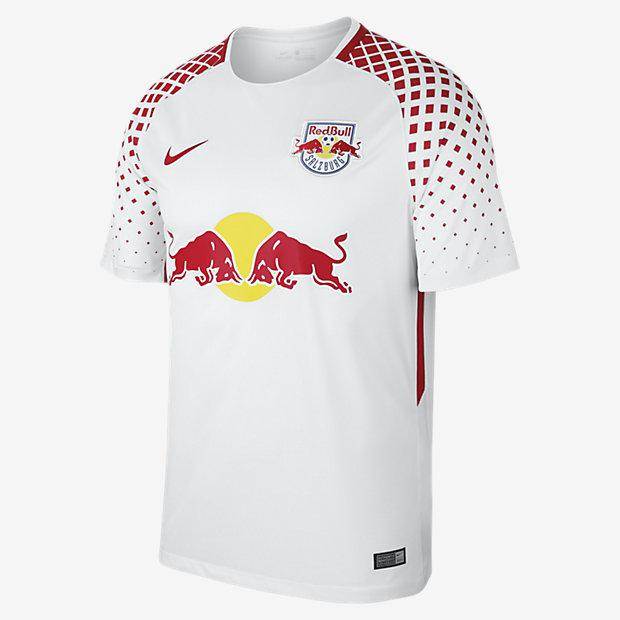teeshirt: (100, 3, 534, 587)
